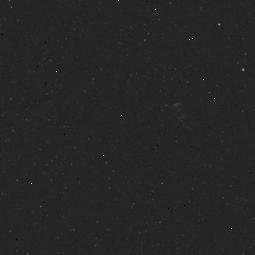debris: (164, 97, 193, 124)
